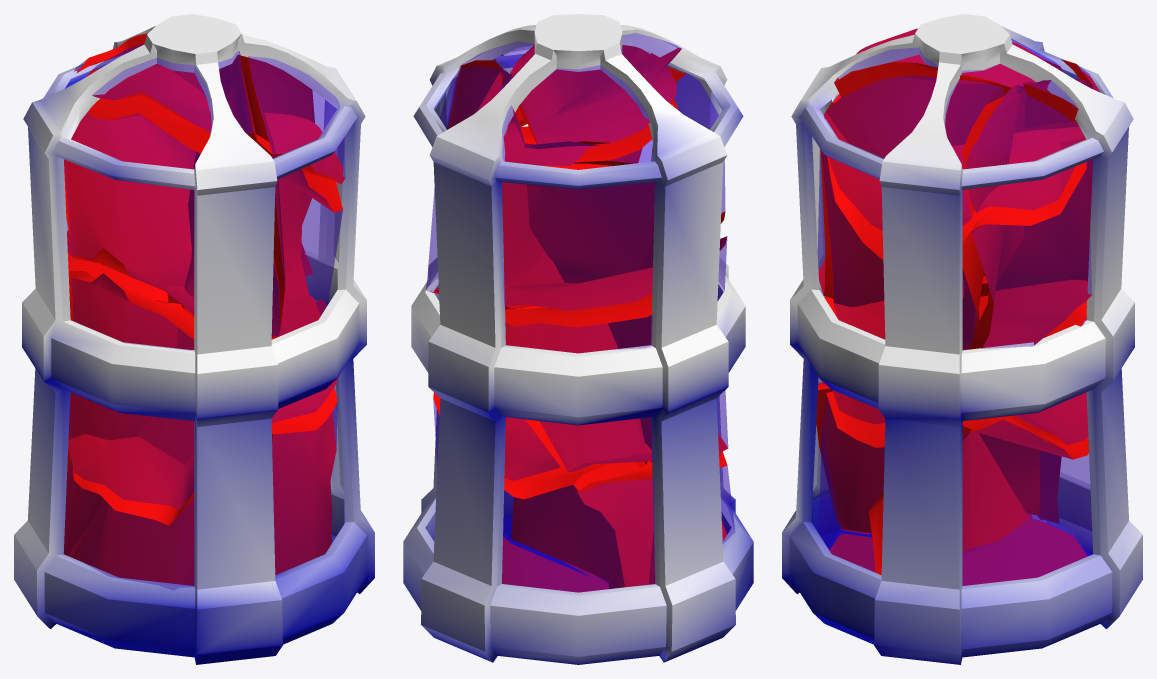
File: UnstableTank.FBX
3 renders of one model, left to right at view 1: azimuth 30°, elevation 25°; view 2: azimuth 150°, elevation 25°; view 3: azimuth 270°, elevation 25°, orthographic.
Visible parts, largest first — view 1: Structure, UnstableCenter; view 2: Structure, UnstableCenter; view 3: Structure, UnstableCenter.
Part boxes in pixels (bbox=[...]): Structure: bbox=[14, 14, 374, 664]; UnstableCenter: bbox=[63, 33, 345, 590]; Structure: bbox=[403, 14, 753, 664]; UnstableCenter: bbox=[426, 33, 735, 592]; Structure: bbox=[782, 14, 1142, 664]; UnstableCenter: bbox=[816, 28, 1100, 585].
Size of the model in its own units: 23.89 by 41.01 by 23.89.
